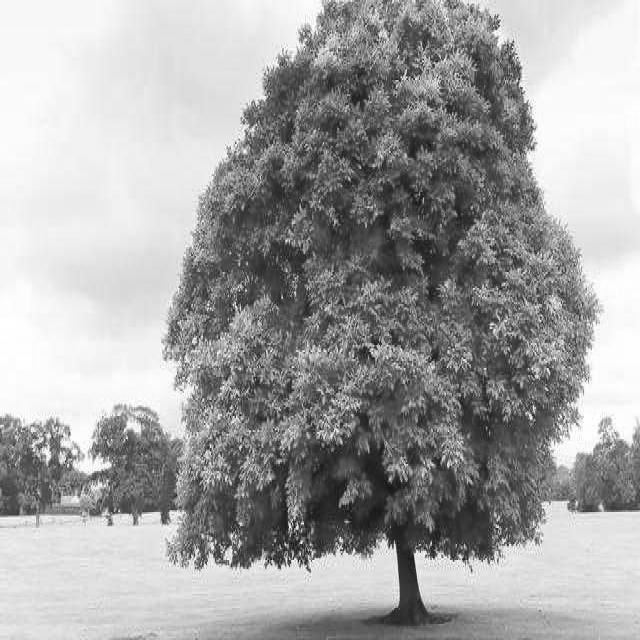Tree: (165, 2, 596, 621), (91, 404, 178, 524), (0, 416, 80, 521), (572, 418, 640, 511)
